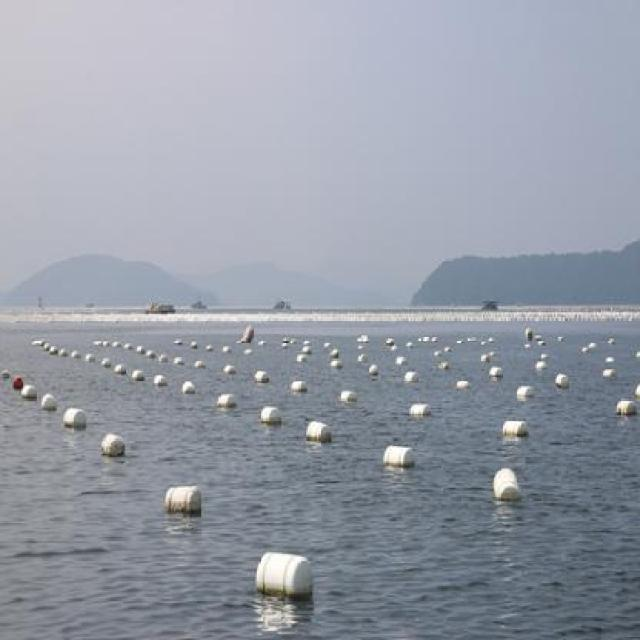a: (248, 542, 319, 606), (159, 478, 211, 524), (488, 464, 532, 510), (381, 439, 424, 473), (303, 413, 341, 449), (98, 428, 133, 463), (497, 414, 531, 443), (409, 393, 441, 422), (611, 393, 640, 424), (63, 402, 90, 434), (260, 400, 288, 429), (213, 390, 242, 413), (181, 376, 204, 403), (335, 388, 362, 409), (285, 376, 309, 398), (236, 323, 260, 344), (513, 383, 540, 401), (40, 391, 59, 416), (551, 373, 577, 391), (393, 353, 414, 373), (369, 361, 387, 381), (114, 359, 131, 380), (598, 364, 619, 381), (254, 369, 276, 385), (523, 327, 537, 352), (437, 359, 454, 378), (405, 368, 426, 383), (605, 333, 622, 351), (191, 356, 209, 373), (330, 357, 349, 373), (489, 364, 508, 380), (297, 351, 317, 366), (354, 351, 374, 366), (16, 379, 30, 399), (83, 349, 97, 367), (173, 353, 187, 371), (222, 363, 240, 377), (154, 375, 170, 390), (24, 385, 40, 400), (459, 376, 474, 391), (173, 334, 187, 350), (159, 347, 171, 363), (2, 367, 14, 381)
